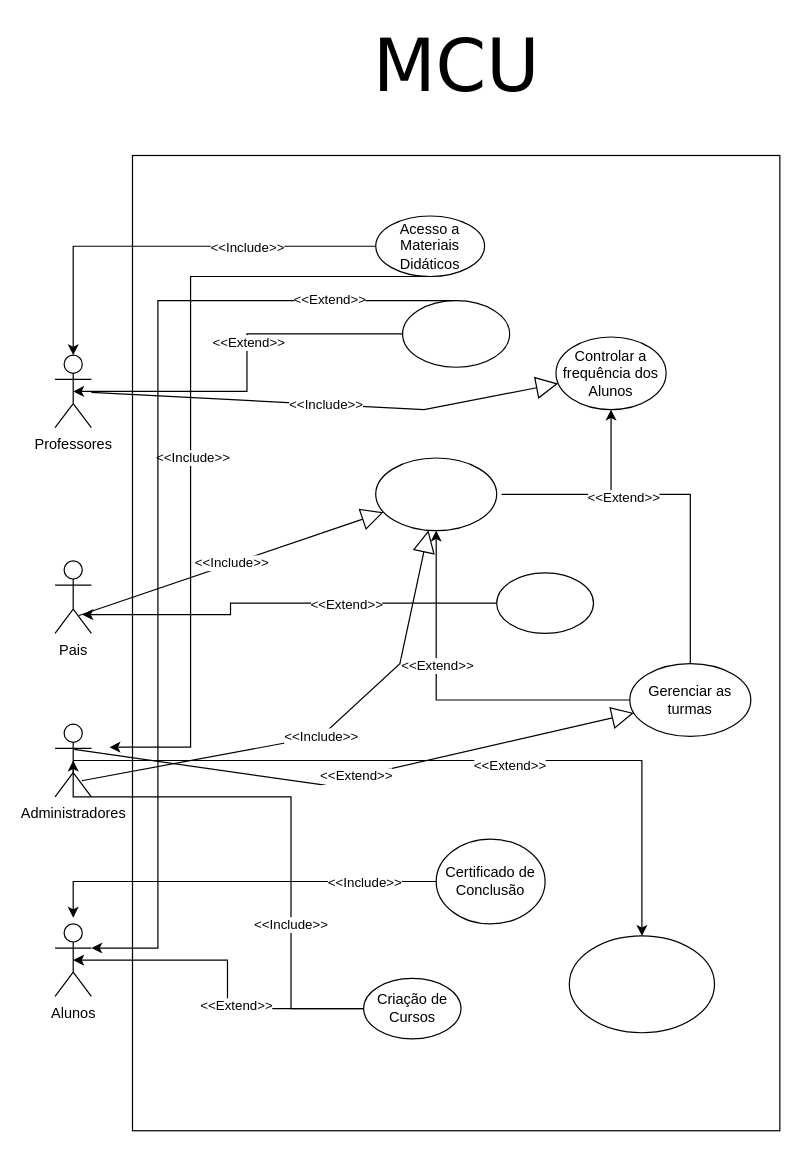
Some shapes in this 801 by 1162 pixel diagram are drawn without their labels. The shapes that lost their labels are listed below. From the top down, each one's centre as x and y in pixels, then its label:
At point (455, 333): "Avaliação de desempenho".
At point (435, 494): "Inscrição dos Filhos/Alunos".
At point (544, 602): "Comunicação".
At point (641, 984): "Agendamento de Aulas".
